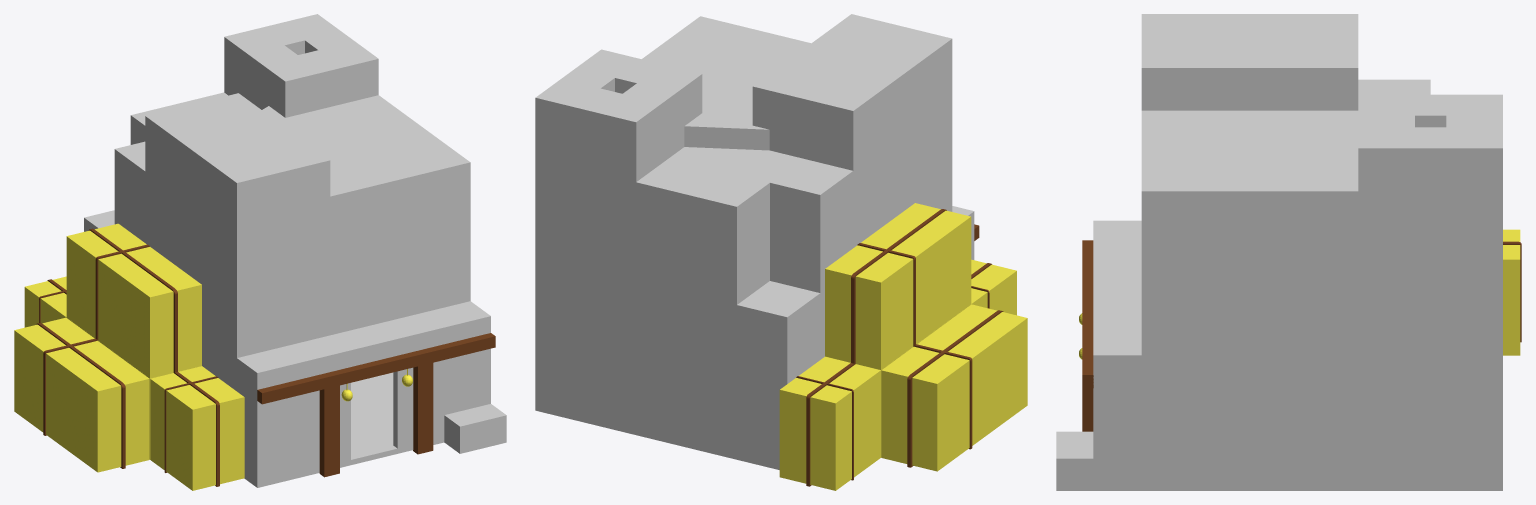
The model's file is carrara_goldmine.fbx.
The picture shows the model from 3 angles, left to right: view 1: azimuth 30°, elevation 25°; view 2: azimuth 150°, elevation 25°; view 3: azimuth 270°, elevation 25°; orthographic projection. The views are drawn at different scales.
Parts seen in each view (by area): view 1: goldmine; view 2: goldmine; view 3: goldmine.
Boxes of the visible parts, x1=… form: goldmine: x1=14, y1=14, x2=506, y2=490; goldmine: x1=535, y1=14, x2=1027, y2=490; goldmine: x1=1056, y1=14, x2=1521, y2=490.
Size of the model in its own units: 774 by 635 by 779.
